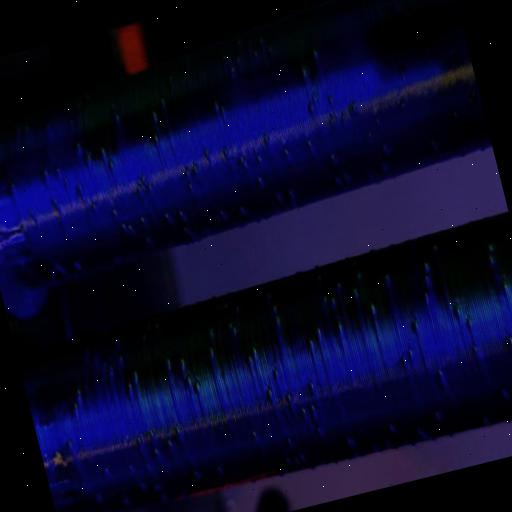blobs: (308, 39, 328, 66), (362, 298, 381, 320), (126, 365, 144, 387), (462, 314, 478, 338), (36, 164, 54, 184), (294, 62, 310, 84), (312, 324, 328, 344), (224, 317, 240, 336), (248, 340, 262, 361), (302, 338, 318, 356), (384, 418, 400, 436), (180, 372, 196, 390), (92, 487, 108, 505), (97, 352, 113, 370), (118, 218, 134, 235), (188, 467, 204, 484), (123, 461, 139, 478), (426, 134, 441, 152), (112, 331, 126, 350), (149, 476, 162, 496), (448, 304, 464, 320), (70, 256, 86, 272), (211, 461, 228, 476), (82, 150, 96, 168), (434, 362, 448, 380), (432, 406, 446, 424), (160, 356, 174, 374), (400, 3, 414, 21), (52, 164, 66, 182), (408, 318, 423, 334), (231, 300, 246, 316), (71, 384, 86, 400), (147, 108, 161, 125), (282, 390, 296, 407), (220, 298, 234, 315), (496, 385, 510, 402), (63, 438, 77, 455), (73, 140, 86, 158), (307, 378, 320, 396), (404, 348, 418, 364), (264, 386, 278, 402), (342, 432, 356, 448), (162, 436, 176, 452), (49, 194, 63, 210), (78, 340, 92, 356), (146, 424, 158, 442), (484, 253, 498, 268), (74, 182, 87, 198), (249, 426, 262, 442), (122, 376, 135, 392), (498, 278, 511, 294), (63, 116, 76, 132), (324, 93, 338, 107), (204, 326, 218, 340), (379, 160, 393, 174), (106, 360, 120, 374), (420, 274, 432, 290), (320, 290, 332, 306), (270, 368, 282, 384), (244, 352, 256, 368), (264, 286, 276, 302), (210, 296, 222, 312), (190, 378, 202, 394), (116, 350, 128, 366), (216, 104, 229, 118), (282, 434, 296, 447), (304, 102, 316, 117), (380, 139, 392, 154), (350, 285, 362, 300), (354, 268, 366, 283), (484, 241, 496, 256), (420, 40, 432, 55), (151, 130, 162, 146), (328, 292, 339, 308), (295, 448, 306, 464), (273, 312, 284, 328), (165, 72, 176, 88), (449, 106, 460, 122), (327, 150, 339, 164), (210, 98, 222, 112), (237, 202, 249, 216), (274, 190, 286, 204), (330, 174, 344, 186), (108, 204, 120, 218), (422, 292, 434, 306), (430, 240, 442, 254), (138, 332, 150, 346), (42, 122, 56, 134), (120, 493, 132, 507), (304, 136, 314, 152), (158, 96, 168, 112), (150, 444, 160, 460), (108, 96, 118, 112), (176, 209, 188, 222), (112, 112, 124, 125), (281, 454, 294, 466), (254, 171, 265, 185), (98, 144, 109, 158), (399, 355, 410, 369), (286, 188, 298, 200), (184, 178, 196, 190), (144, 234, 156, 246), (480, 412, 492, 424), (106, 158, 116, 172), (422, 260, 432, 274), (270, 304, 280, 318), (364, 126, 374, 140), (138, 478, 148, 492), (5, 180, 16, 192), (202, 147, 212, 160), (300, 404, 310, 417), (206, 346, 216, 359), (176, 354, 186, 367), (212, 210, 221, 224), (102, 464, 111, 478), (310, 92, 320, 104), (226, 64, 236, 76), (383, 270, 393, 282), (69, 400, 79, 412), (308, 400, 316, 414), (504, 335, 512, 349), (216, 206, 226, 217), (335, 280, 346, 290), (172, 423, 182, 434), (162, 210, 171, 222), (153, 322, 162, 334), (144, 324, 153, 336), (282, 148, 292, 158), (256, 154, 266, 164), (265, 45, 274, 56), (244, 38, 252, 50), (222, 145, 230, 157), (234, 55, 242, 66), (258, 35, 266, 45), (252, 50, 260, 60), (507, 240, 512, 256), (226, 55, 234, 64), (142, 214, 148, 222)
